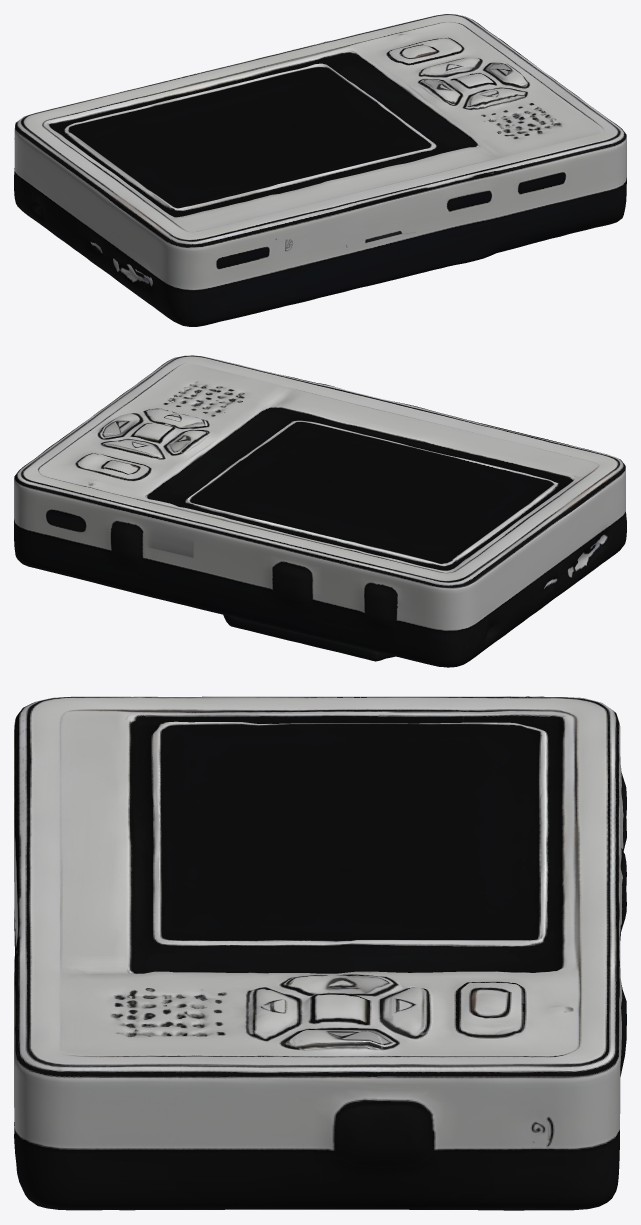
File: about-showcase.glb
3 renders of one model, top to bottom at view 1: azimuth 30°, elevation 25°; view 2: azimuth 150°, elevation 25°; view 3: azimuth 270°, elevation 25°, orthographic. The views are drawn at different scales.
Parts seen in each view (by area): view 1: body, screen, btn_down, btn_up, btn_right, btn_left; view 2: body, screen, btn_down, btn_up, btn_right, btn_left; view 3: body, screen, btn_down, btn_up, btn_right, btn_left.
Part boxes in pixels (bbox=[...]): body: bbox=[14, 14, 626, 326]; screen: bbox=[69, 65, 431, 208]; btn_down: bbox=[463, 87, 527, 110]; btn_up: bbox=[419, 58, 482, 77]; btn_right: bbox=[483, 62, 529, 88]; btn_left: bbox=[418, 78, 462, 105]; body: bbox=[14, 355, 626, 667]; screen: bbox=[187, 421, 553, 563]; btn_down: bbox=[143, 408, 209, 429]; btn_up: bbox=[100, 439, 164, 459]; btn_right: bbox=[98, 413, 142, 439]; btn_left: bbox=[162, 430, 209, 456]; body: bbox=[14, 696, 626, 1210]; screen: bbox=[159, 722, 542, 940]; btn_down: bbox=[246, 987, 302, 1041]; btn_up: bbox=[379, 987, 431, 1039]; btn_right: bbox=[280, 1028, 400, 1051]; btn_left: bbox=[280, 974, 402, 996].
Bounding box in the file's own units: 49.98 × 13.82 × 33.82.
1 material, 1 textured.
